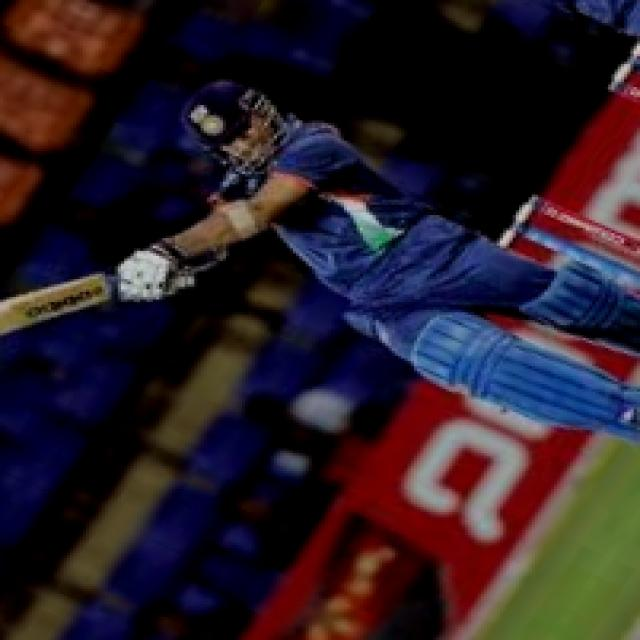toe: (0, 294, 29, 343)
